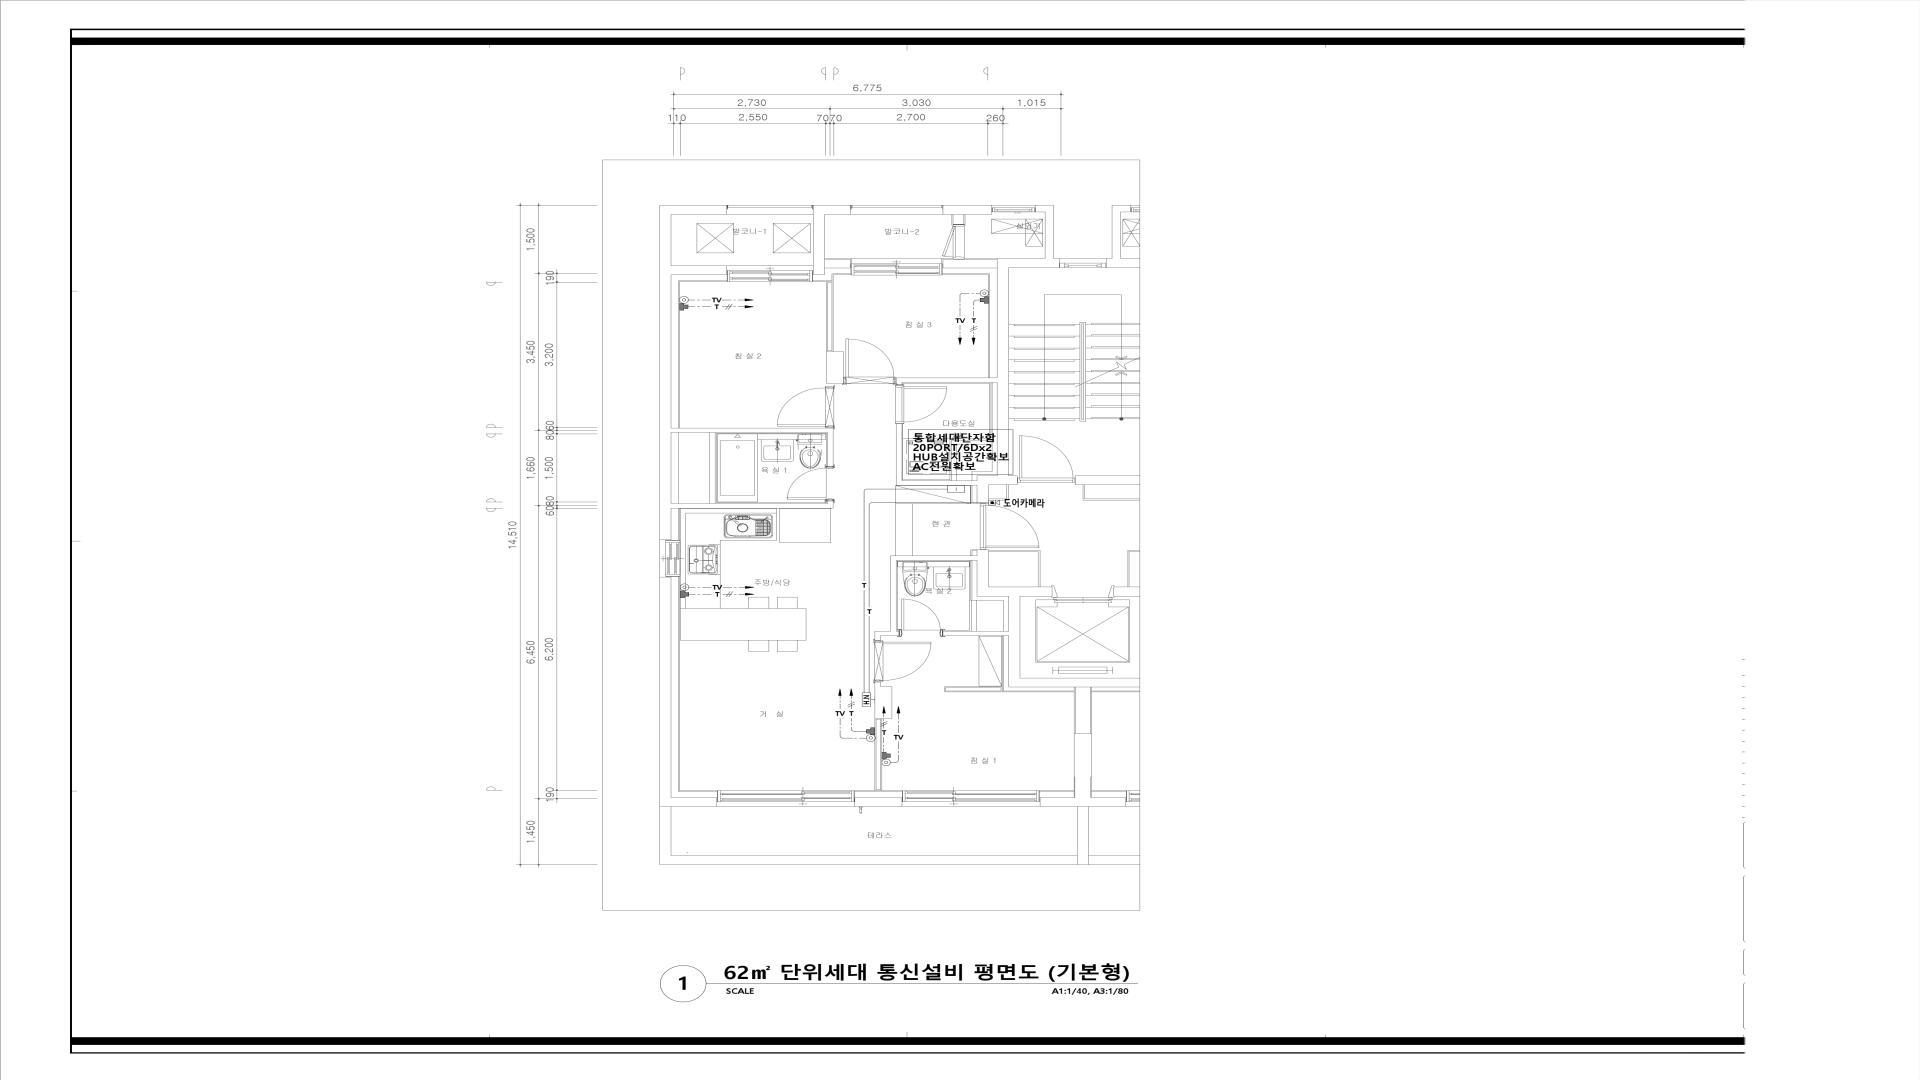door: (980, 502, 1040, 550), (1017, 434, 1075, 483), (844, 336, 897, 385), (777, 386, 835, 429), (874, 640, 932, 682), (895, 385, 948, 425), (899, 597, 943, 636), (786, 467, 833, 501)
wall: (943, 550, 1139, 687), (659, 429, 833, 541), (895, 378, 1018, 502), (659, 204, 727, 429), (659, 578, 717, 807), (997, 206, 1059, 378), (874, 555, 977, 641), (1039, 774, 1126, 807), (814, 204, 851, 274), (1073, 687, 1092, 774), (874, 682, 893, 719), (1075, 476, 1141, 485), (827, 352, 844, 384), (943, 204, 992, 215), (855, 798, 902, 807), (943, 260, 997, 268), (1113, 587, 1141, 596)
window: (902, 790, 1039, 802), (717, 790, 855, 802), (851, 264, 943, 276), (727, 270, 814, 282), (666, 541, 680, 578), (851, 204, 943, 210), (727, 204, 814, 210)
